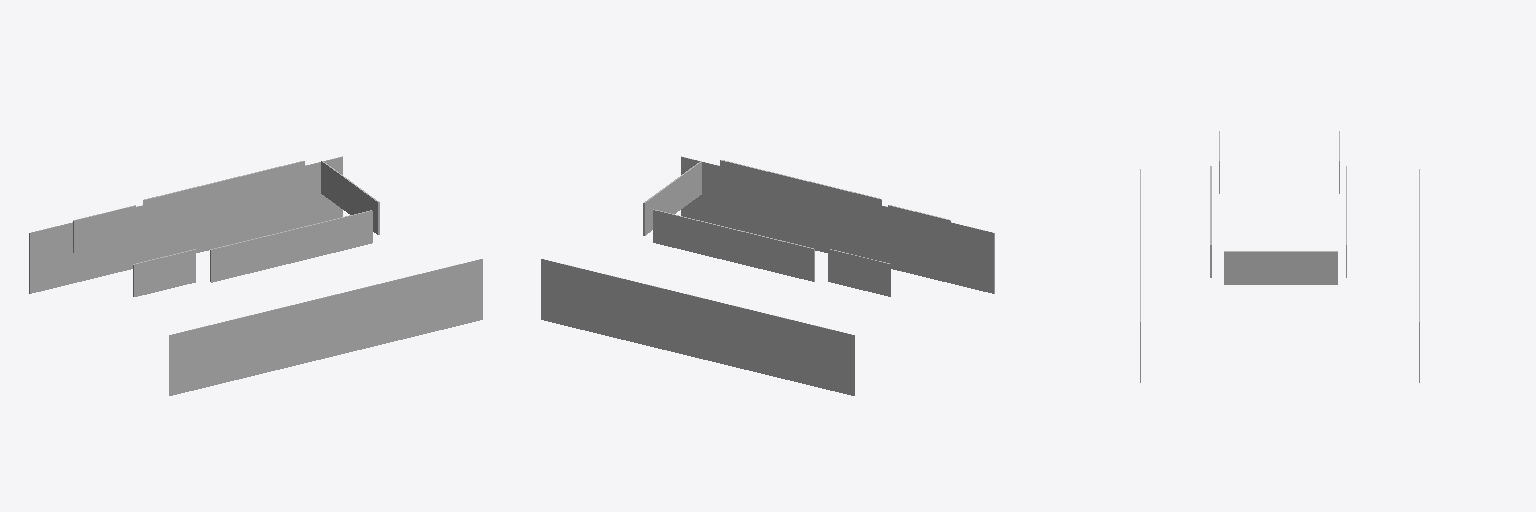
File: ventanas.obj
The picture shows the model from 3 angles: view 1: azimuth 30°, elevation 25°; view 2: azimuth 150°, elevation 25°; view 3: azimuth 270°, elevation 25°; orthographic projection.
Parts seen in each view (by area): view 1: pCube44, pCube43, pasted__pCube23 group60, group60 pasted__pCube14, group60 pasted__pCube24, group60 pasted__pCube19, group60 pasted__pCube18; view 2: pCube43, pCube44, group60 pasted__pCube14, pasted__pCube23 group60, group60 pasted__pCube24, group60 pasted__pCube19, group60 pasted__pCube18; view 3: group60 pasted__pCube18.
Part boxes in pixels (bbox=[...]): pCube44: bbox=[169, 259, 482, 395]; pCube43: bbox=[29, 156, 342, 293]; pasted__pCube23 group60: bbox=[210, 210, 372, 282]; group60 pasted__pCube14: bbox=[143, 161, 304, 232]; group60 pasted__pCube24: bbox=[133, 249, 195, 296]; group60 pasted__pCube19: bbox=[73, 205, 135, 253]; group60 pasted__pCube18: bbox=[321, 161, 379, 234]; pCube43: bbox=[541, 259, 854, 395]; pCube44: bbox=[681, 156, 994, 293]; group60 pasted__pCube14: bbox=[653, 209, 814, 281]; pasted__pCube23 group60: bbox=[720, 160, 881, 231]; group60 pasted__pCube24: bbox=[888, 205, 950, 252]; group60 pasted__pCube19: bbox=[828, 249, 890, 296]; group60 pasted__pCube18: bbox=[643, 161, 701, 235]; group60 pasted__pCube18: bbox=[1224, 251, 1337, 284].
Bounding box in the file's own units: 68.83 × 21.38 × 53.31.